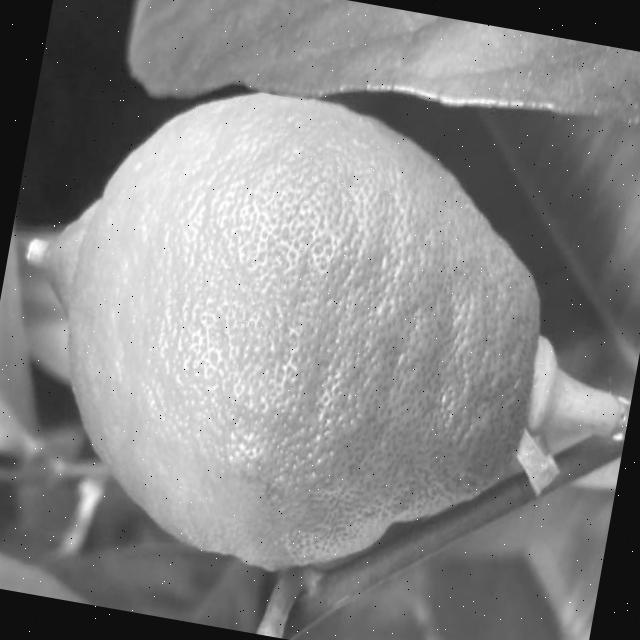Unripe: (0, 55, 577, 610)
